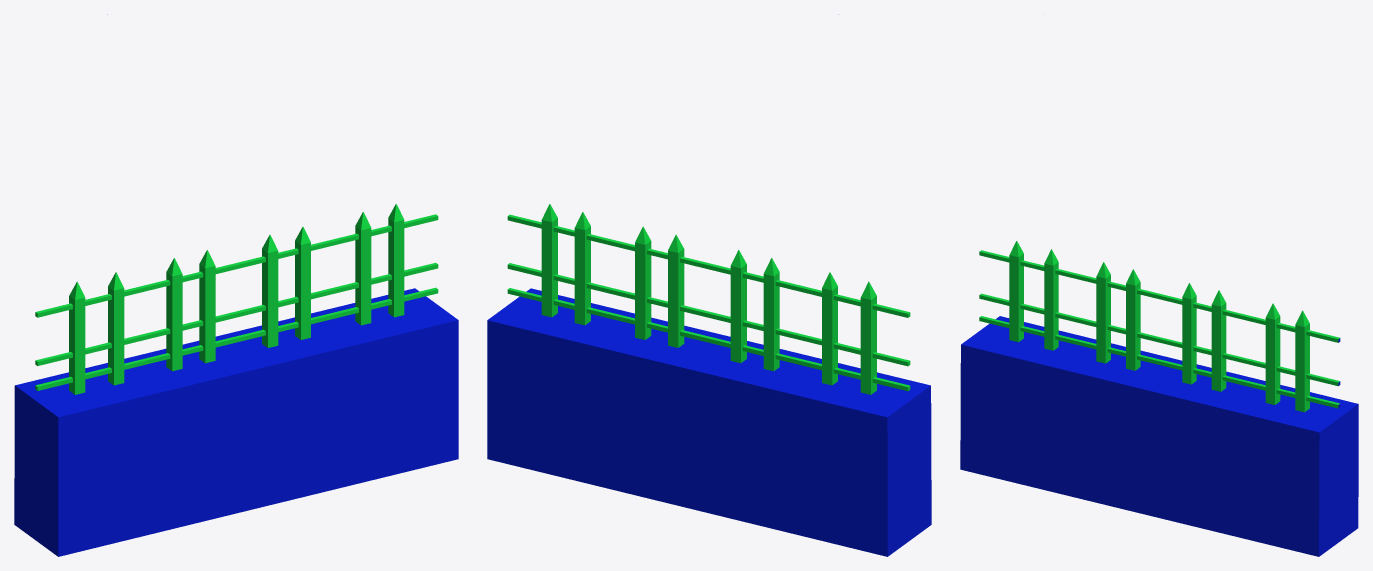
The model's file is MuretaUniforme1.fbx.
3 views of the same model, side by side, from view 1: azimuth 30°, elevation 25°; view 2: azimuth 150°, elevation 25°; view 3: azimuth 330°, elevation 25° (orthographic). The views are drawn at different scales.
Visible parts, largest first — view 1: Mureta; view 2: Mureta; view 3: Mureta.
Part boxes in pixels (x1=…): Mureta: x1=14, y1=14, x2=458, y2=556; Mureta: x1=487, y1=204, x2=931, y2=556; Mureta: x1=960, y1=241, x2=1358, y2=556.
Bounding box in the file's own units: 170 × 206 × 32.33.
